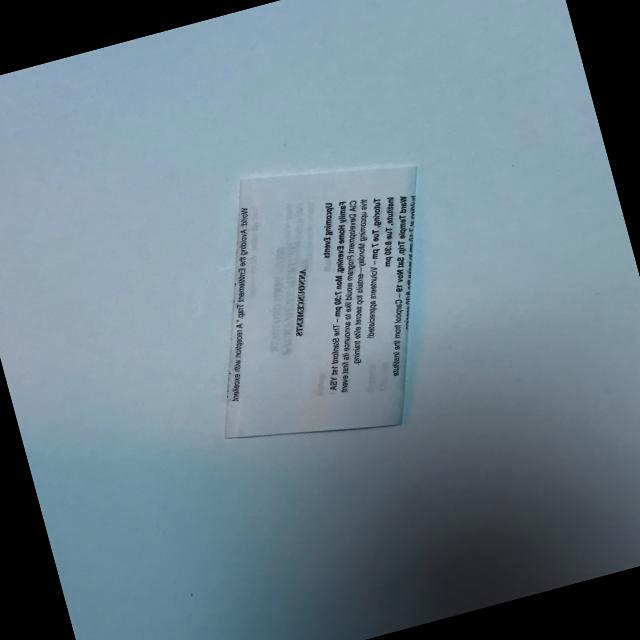paper: (142, 109, 496, 491)
